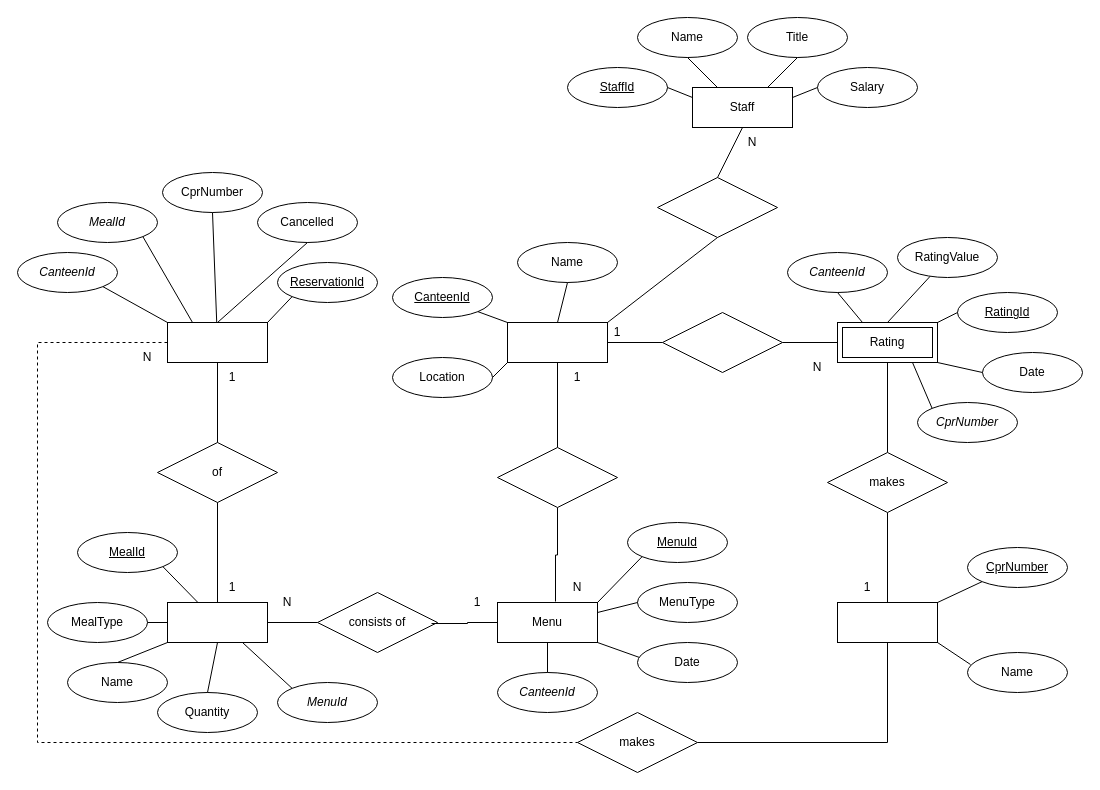
Image size: 1100x790. Some labels were removed from this diagram. The shapes that lost their labels are listed below. From the top down, each one's centre as x and y in pixels, then its label:
(x=717, y=207): works in
(x=217, y=342): Reservation
(x=557, y=342): Canteen
(x=722, y=342): rates
(x=557, y=477): has
(x=217, y=622): Meal
(x=887, y=622): Customer
